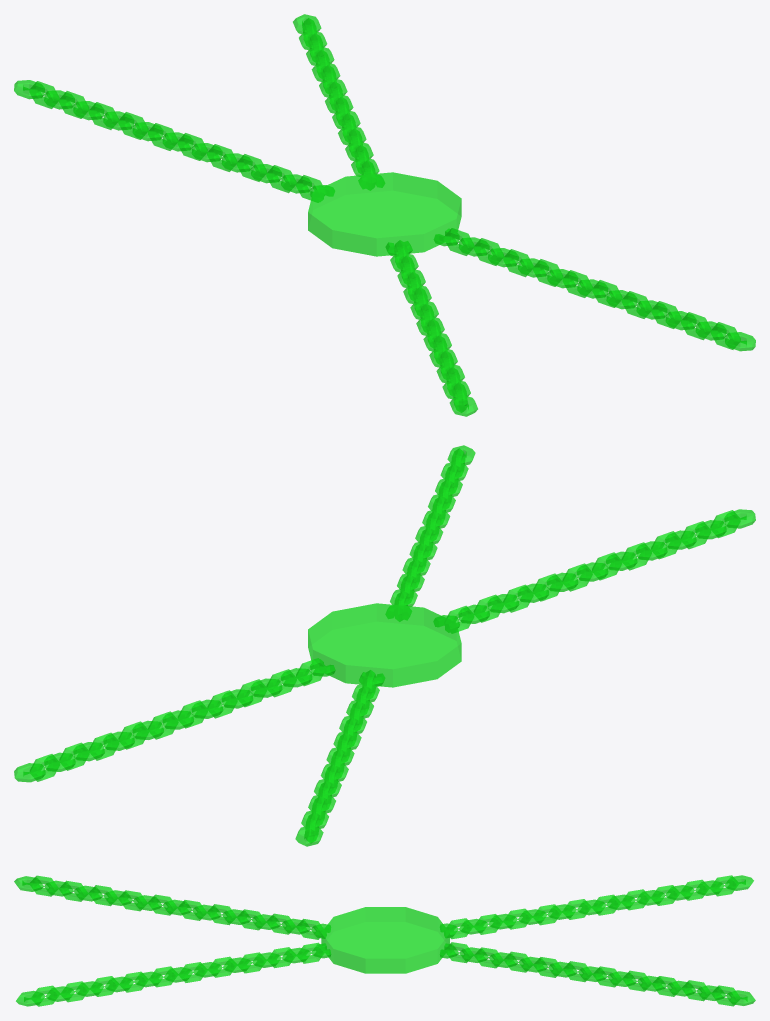
The model's file is Door_Chain.fbx.
The picture shows the model from 3 angles, top to bottom: view 1: azimuth 30°, elevation 25°; view 2: azimuth 150°, elevation 25°; view 3: azimuth 270°, elevation 25°; orthographic projection. The views are drawn at different scales.
Visible parts, largest first — view 1: DoorChain; view 2: DoorChain; view 3: DoorChain.
Part boxes in pixels (bbox=[...]): DoorChain: bbox=[14, 14, 755, 416]; DoorChain: bbox=[14, 445, 755, 846]; DoorChain: bbox=[14, 875, 755, 1006].
Bounding box in the file's own units: 103 × 8.92 × 265.
